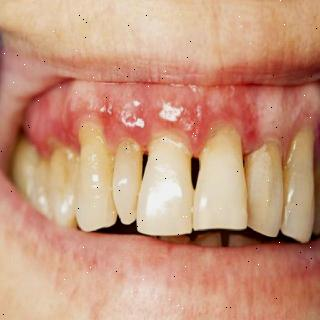Gum Swelling: (52, 96, 266, 151)
calculus: (42, 127, 70, 160)
plaque: (246, 134, 287, 172), (109, 132, 138, 163)
